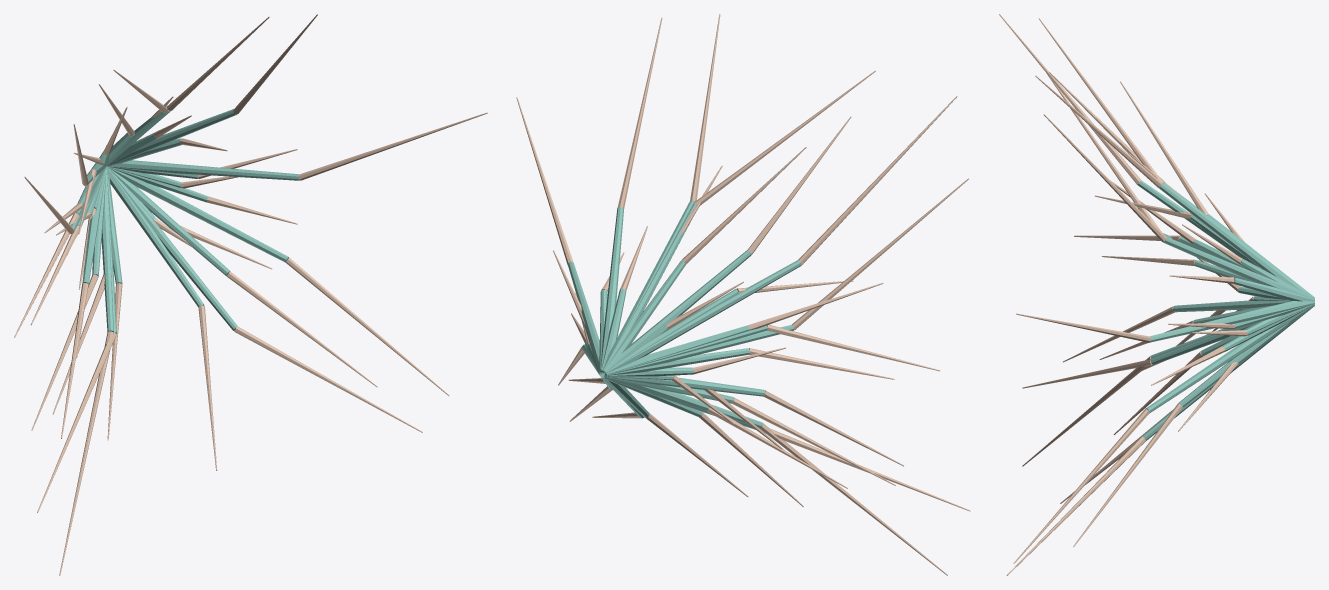
File: Aquarion_Staghorn_Reef.glb
3 renders of one model, left to right at view 1: azimuth 30°, elevation 25°; view 2: azimuth 150°, elevation 25°; view 3: azimuth 270°, elevation 25°, orthographic. The views are drawn at different scales.
Parts seen in each view (by area): view 1: Aquarion_Staghorn_Reef_a11, Aquarion_Staghorn_Reef_a10, Aquarion_Staghorn_Reef_a31, Aquarion_Staghorn_Reef_a21, Aquarion_Staghorn_Reef_a3, Aquarion_Staghorn_Reef_a12, Aquarion_Staghorn_Reef_b12, Aquarion_Staghorn_Reef_a8, Aquarion_Staghorn_Reef_b31, Aquarion_Staghorn_Reef_b11, Aquarion_Staghorn_Reef_b10, Aquarion_Staghorn_Reef_b0 (+8 smaller); view 2: Aquarion_Staghorn_Reef_a30, Aquarion_Staghorn_Reef_a18, Aquarion_Staghorn_Reef_a8, Aquarion_Staghorn_Reef_a27, Aquarion_Staghorn_Reef_a7, Aquarion_Staghorn_Reef_b30, Aquarion_Staghorn_Reef_a17, Aquarion_Staghorn_Reef_b12, Aquarion_Staghorn_Reef_b27, Aquarion_Staghorn_Reef_b29, Aquarion_Staghorn_Reef_a29, Aquarion_Staghorn_Reef_a6 (+21 smaller); view 3: Aquarion_Staghorn_Reef_a15, Aquarion_Staghorn_Reef_a11, Aquarion_Staghorn_Reef_a10, Aquarion_Staghorn_Reef_a8, Aquarion_Staghorn_Reef_a3, Aquarion_Staghorn_Reef_b11, Aquarion_Staghorn_Reef_a17, Aquarion_Staghorn_Reef_b30, Aquarion_Staghorn_Reef_b31, Aquarion_Staghorn_Reef_b27, Aquarion_Staghorn_Reef_b3, Aquarion_Staghorn_Reef_b8 (+17 smaller).
Part boxes in pixels (bbox=[...]): Aquarion_Staghorn_Reef_a11: bbox=[108, 167, 288, 262]; Aquarion_Staghorn_Reef_a10: bbox=[107, 160, 300, 180]; Aquarion_Staghorn_Reef_a31: bbox=[107, 167, 237, 330]; Aquarion_Staghorn_Reef_a21: bbox=[107, 167, 203, 307]; Aquarion_Staghorn_Reef_a3: bbox=[107, 167, 229, 275]; Aquarion_Staghorn_Reef_a12: bbox=[101, 169, 113, 332]; Aquarion_Staghorn_Reef_b12: bbox=[59, 331, 113, 575]; Aquarion_Staghorn_Reef_a8: bbox=[107, 109, 237, 166]; Aquarion_Staghorn_Reef_b31: bbox=[234, 326, 422, 432]; Aquarion_Staghorn_Reef_b11: bbox=[285, 258, 449, 395]; Aquarion_Staghorn_Reef_b10: bbox=[299, 112, 487, 180]; Aquarion_Staghorn_Reef_b0: bbox=[37, 332, 116, 512]; Aquarion_Staghorn_Reef_a30: bbox=[605, 260, 801, 373]; Aquarion_Staghorn_Reef_a18: bbox=[605, 250, 751, 372]; Aquarion_Staghorn_Reef_a8: bbox=[600, 207, 623, 371]; Aquarion_Staghorn_Reef_a27: bbox=[603, 203, 695, 370]; Aquarion_Staghorn_Reef_a7: bbox=[604, 260, 686, 372]; Aquarion_Staghorn_Reef_b30: bbox=[798, 96, 957, 264]; Aquarion_Staghorn_Reef_a17: bbox=[606, 377, 765, 396]; Aquarion_Staghorn_Reef_b12: bbox=[760, 423, 947, 575]; Aquarion_Staghorn_Reef_b27: bbox=[694, 70, 875, 205]; Aquarion_Staghorn_Reef_b29: bbox=[792, 178, 968, 329]; Aquarion_Staghorn_Reef_a29: bbox=[606, 324, 794, 374]; Aquarion_Staghorn_Reef_a6: bbox=[605, 325, 749, 374]; Aquarion_Staghorn_Reef_a15: bbox=[1158, 183, 1314, 297]; Aquarion_Staghorn_Reef_a11: bbox=[1146, 305, 1314, 413]; Aquarion_Staghorn_Reef_a10: bbox=[1150, 301, 1314, 342]; Aquarion_Staghorn_Reef_a8: bbox=[1163, 237, 1314, 299]; Aquarion_Staghorn_Reef_a3: bbox=[1178, 305, 1314, 407]; Aquarion_Staghorn_Reef_b11: bbox=[1013, 408, 1149, 563]; Aquarion_Staghorn_Reef_a17: bbox=[1173, 300, 1290, 312]; Aquarion_Staghorn_Reef_b30: bbox=[999, 14, 1141, 184]; Aquarion_Staghorn_Reef_b31: bbox=[1006, 436, 1145, 575]; Aquarion_Staghorn_Reef_b27: bbox=[1039, 18, 1163, 183]; Aquarion_Staghorn_Reef_b3: bbox=[1073, 403, 1182, 546]; Aquarion_Staghorn_Reef_b8: bbox=[1043, 114, 1166, 241].
Bounding box in the file's own units: 2.8 × 2.96 × 1.71.
